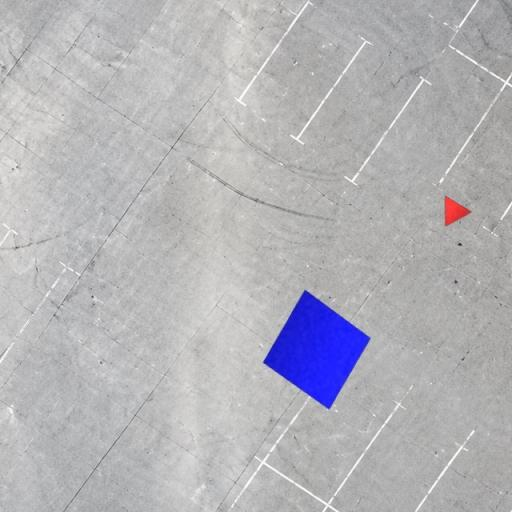BLUE_SQUARE: (262, 289, 372, 410)
